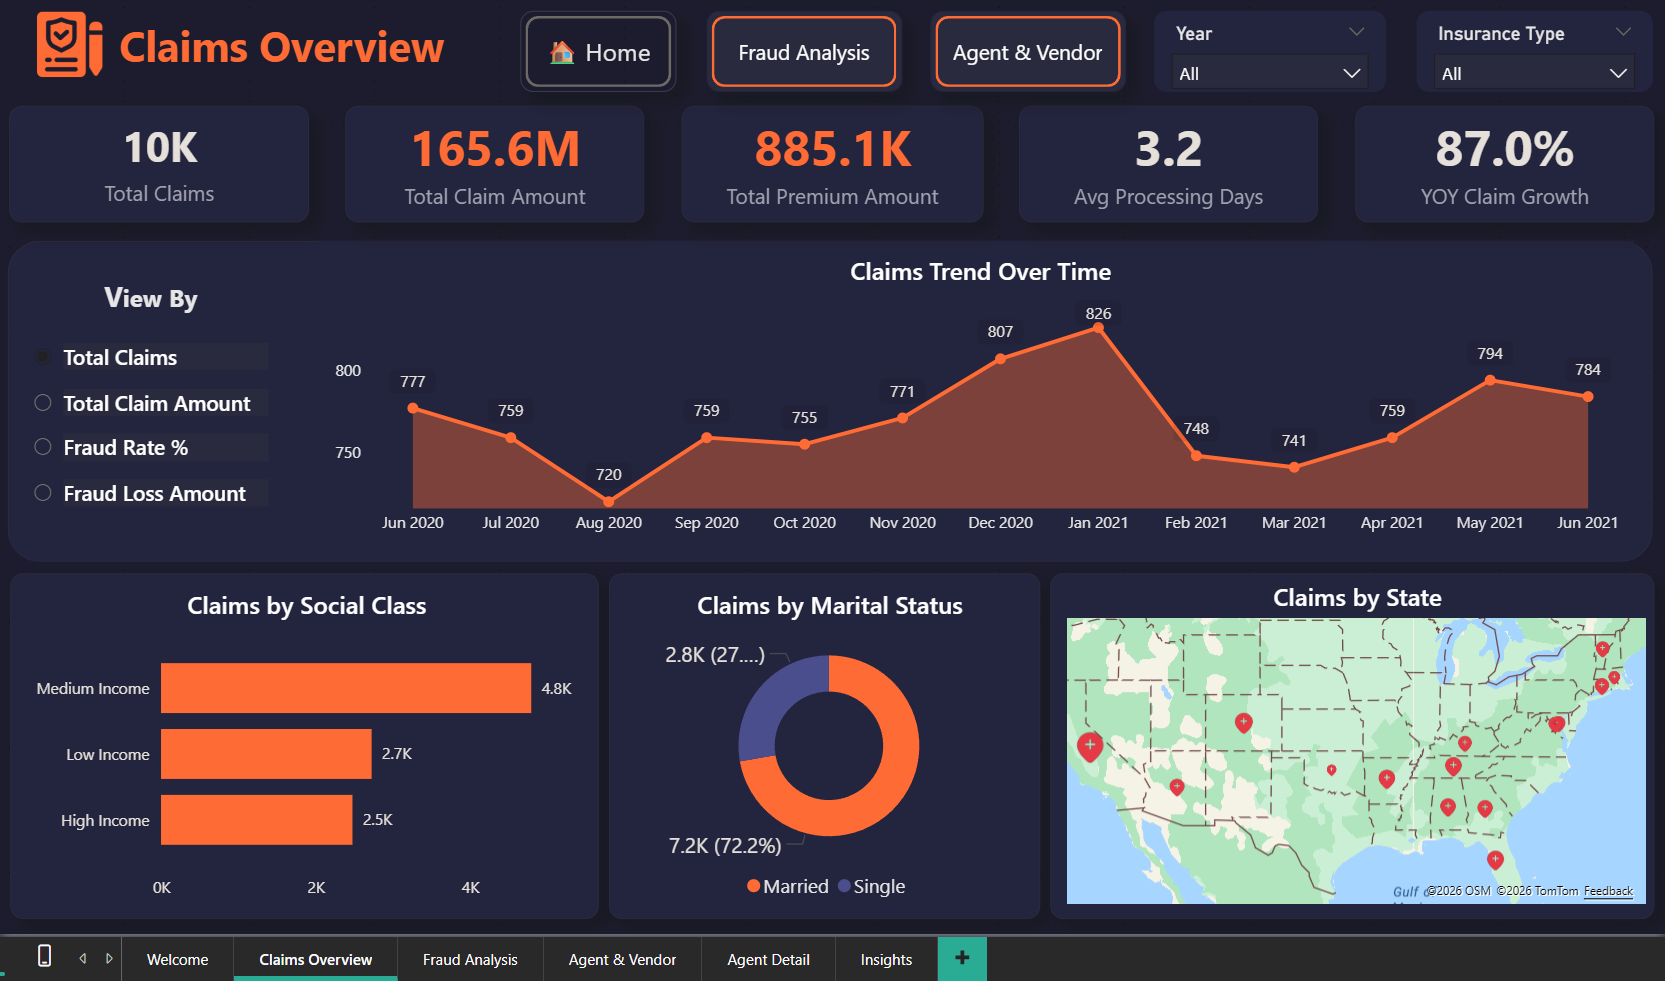

This screenshot's page, from the dashboard's own definition file:
{"tool":"powerbi","page":{"name":"Claims Overview","canvas":[1280,720],"ordinal":1},"visuals":[{"type":"shape","box":[6.7,187.2,1263.4,246.7],"z":0},{"type":"lineChart","title":"Claims Trend Over Time","fields":{"Y":["FactClaims.Total Claims"],"Category":["Date Table.Month-Year"]},"box":[245.3,187.3,1009.8,239.4],"z":1000},{"type":"textbox","box":[87.7,10.7,288,52.1],"z":2000},{"type":"slicer","fields":{"Values":["Date Table.Year"]},"box":[887.5,10.4,178.4,62.6],"z":3000},{"type":"slicer","fields":{"Values":["FactClaims.INSURANCE_TYPE"]},"box":[1088.3,10.4,181.6,62.6],"z":4000},{"type":"card","fields":{"Values":["FactClaims.Total Claims"]},"box":[7.3,83.5,230.6,89.7],"z":5000},{"type":"card","fields":{"Values":["FactClaims.Total Claim Amount"]},"box":[266.1,83.5,229.6,89.7],"z":6000},{"type":"card","fields":{"Values":["FactClaims.Total Premium Amount"]},"box":[523.8,83.5,231.7,89.7],"z":7000},{"type":"card","fields":{"Values":["FactClaims.Avg Processing Days"]},"box":[783.7,83.5,229.6,89.7],"z":8000},{"type":"actionButton","box":[400.7,10.4,120,62.6],"z":9000},{"type":"clusteredBarChart","title":"Claims by Social Class","fields":{"Category":["FactClaims.Social_Class_Label"],"Y":["FactClaims.Total Claims"]},"box":[8.6,442.6,452.2,265.9],"z":10000},{"type":"donutChart","title":"Claims by Marital Status","fields":{"Category":["FactClaims.Martial_Label"],"Y":["FactClaims.Total Claims"]},"box":[468.5,442.6,331.2,265.9],"z":11000},{"type":"card","fields":{"Values":["FactClaims.YOY Claim Growth"]},"box":[1041.4,83.5,229.6,89.7],"z":12000},{"type":"slicer","fields":{"Values":["Select Measure.Select Measure"]},"box":[8.3,248.9,207.4,177.8],"z":13000,"group":"g1"},{"type":"actionButton","box":[543.1,10.4,150,62.6],"z":14000},{"type":"actionButton","box":[714.8,10.4,150.3,62.6],"z":15000},{"type":"azureMap","title":"Claims by State","fields":{"Category":["FactClaims.STATE"],"Size":["FactClaims.Total Claims"]},"box":[807.4,442.6,463.7,265.9],"z":16000},{"type":"image","box":[21.3,9.5,66.4,53.3],"z":17000},{"type":"textbox","box":[75.5,209.8,109,39.1],"z":20000,"group":"g1"},{"type":"group","id":"g1","title":"Group 1","box":[8.3,209.8,207.4,216.9],"z":20001}]}

Visuals, with their boxes on the page's 1280x720 design canvas (x1, y1, x2, y2). These are canvas units, not pixel positions in the 1665x981 screenshot, which may show the page scaled, cropped or inside an application window:
shape: <region>7, 187, 1270, 434</region>
"Claims Trend Over Time" lineChart: <region>245, 187, 1255, 427</region>
textbox: <region>88, 11, 376, 63</region>
slicer - Date Table.Year: <region>888, 10, 1066, 73</region>
slicer - FactClaims.INSURANCE_TYPE: <region>1088, 10, 1270, 73</region>
card - FactClaims.Total Claims: <region>7, 84, 238, 173</region>
card - FactClaims.Total Claim Amount: <region>266, 84, 496, 173</region>
card - FactClaims.Total Premium Amount: <region>524, 84, 756, 173</region>
card - FactClaims.Avg Processing Days: <region>784, 84, 1013, 173</region>
actionButton: <region>401, 10, 521, 73</region>
"Claims by Social Class" clusteredBarChart: <region>9, 443, 461, 708</region>
"Claims by Marital Status" donutChart: <region>468, 443, 800, 708</region>
card - FactClaims.YOY Claim Growth: <region>1041, 84, 1271, 173</region>
slicer - Select Measure.Select Measure: <region>8, 249, 216, 427</region>
actionButton: <region>543, 10, 693, 73</region>
actionButton: <region>715, 10, 865, 73</region>
"Claims by State" azureMap: <region>807, 443, 1271, 708</region>
image: <region>21, 10, 88, 63</region>
textbox: <region>76, 210, 184, 249</region>
"Group 1" group: <region>8, 210, 216, 427</region>
